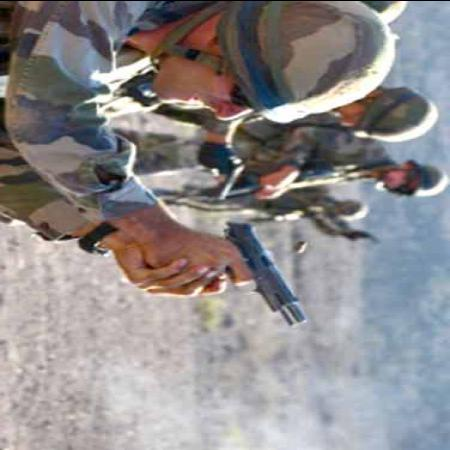Pistol: (208, 218, 310, 328)
